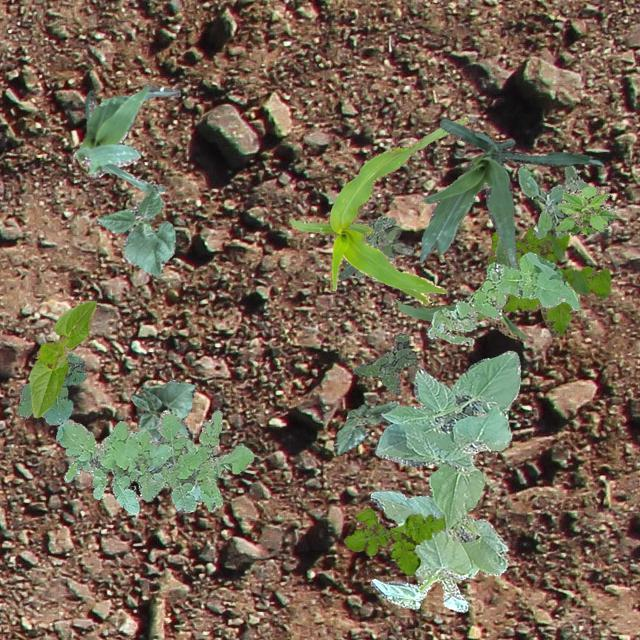crop: (370, 349, 520, 612), (288, 116, 468, 304), (418, 119, 604, 268), (392, 236, 526, 340), (72, 84, 180, 192), (29, 299, 95, 416), (96, 180, 174, 276), (130, 378, 196, 442), (332, 399, 398, 454)
weed: (55, 408, 254, 512), (426, 250, 578, 344), (486, 224, 610, 336), (342, 508, 443, 574), (516, 165, 588, 238), (16, 352, 86, 424), (352, 332, 418, 394), (353, 218, 412, 278), (338, 216, 394, 278), (554, 184, 618, 234)
